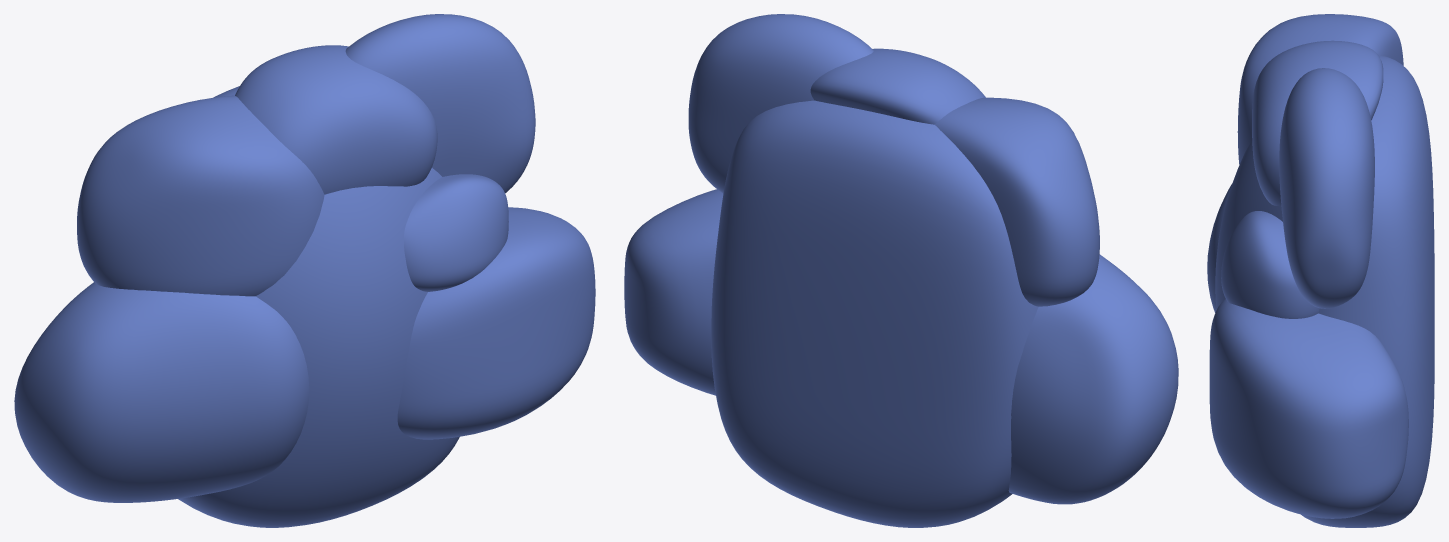
The model's file is Emoji 1011 cloud.fbx.
The picture shows the model from 3 angles, left to right: view 1: azimuth 30°, elevation 25°; view 2: azimuth 150°, elevation 25°; view 3: azimuth 270°, elevation 25°; orthographic projection. The views are drawn at different scales.
Visible parts, largest first — view 1: Emoji 1011 cloud; view 2: Emoji 1011 cloud; view 3: Emoji 1011 cloud.
Part boxes in pixels (bbox=[...]): Emoji 1011 cloud: bbox=[14, 14, 595, 527]; Emoji 1011 cloud: bbox=[624, 14, 1178, 527]; Emoji 1011 cloud: bbox=[1207, 14, 1434, 527].
Bounding box in the file's own units: 103 × 37.52 × 83.72.
